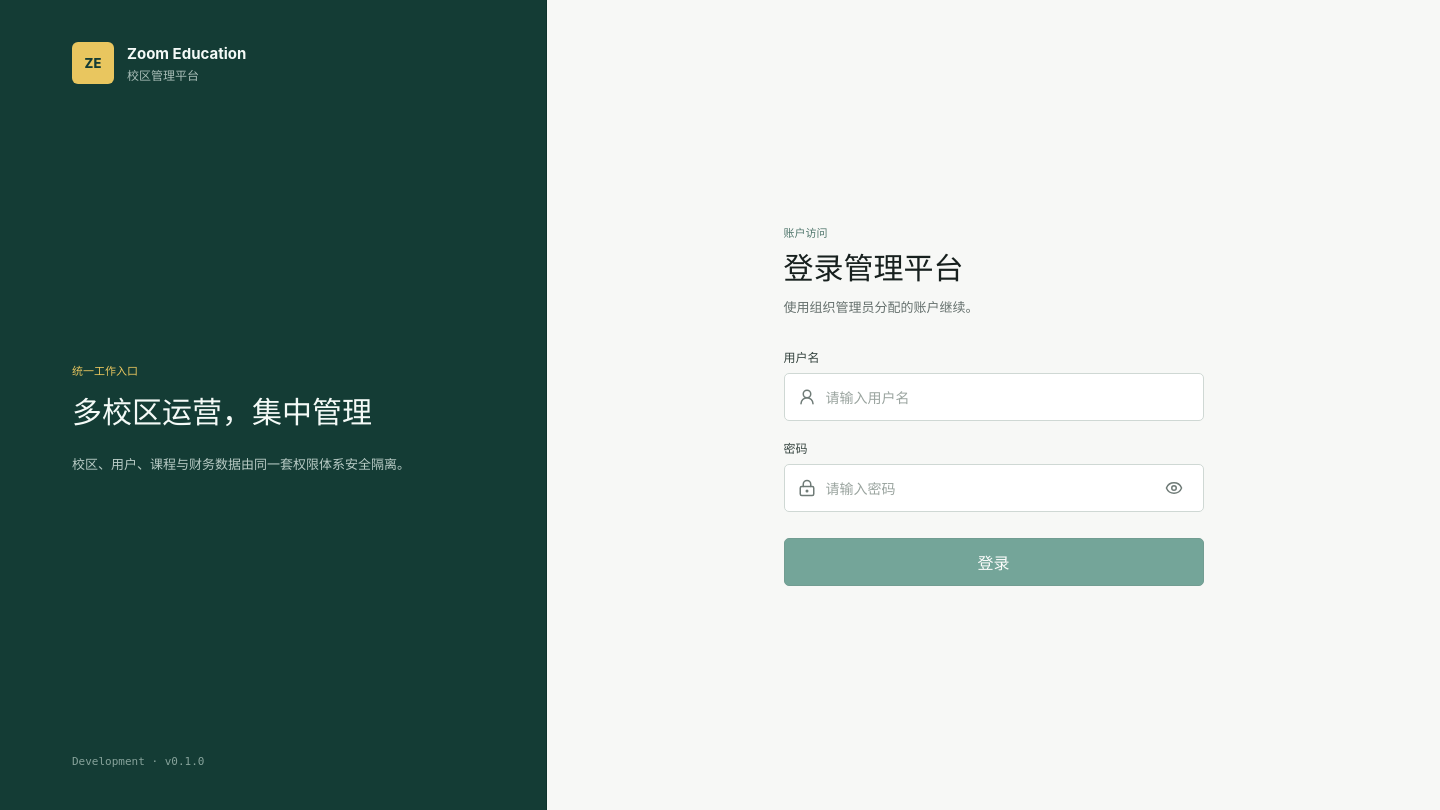
Test case: login view › shows the account-lock message returned by the API
Type "admin" into the field named "username" at [1003, 397], box [826, 374, 1180, 420]
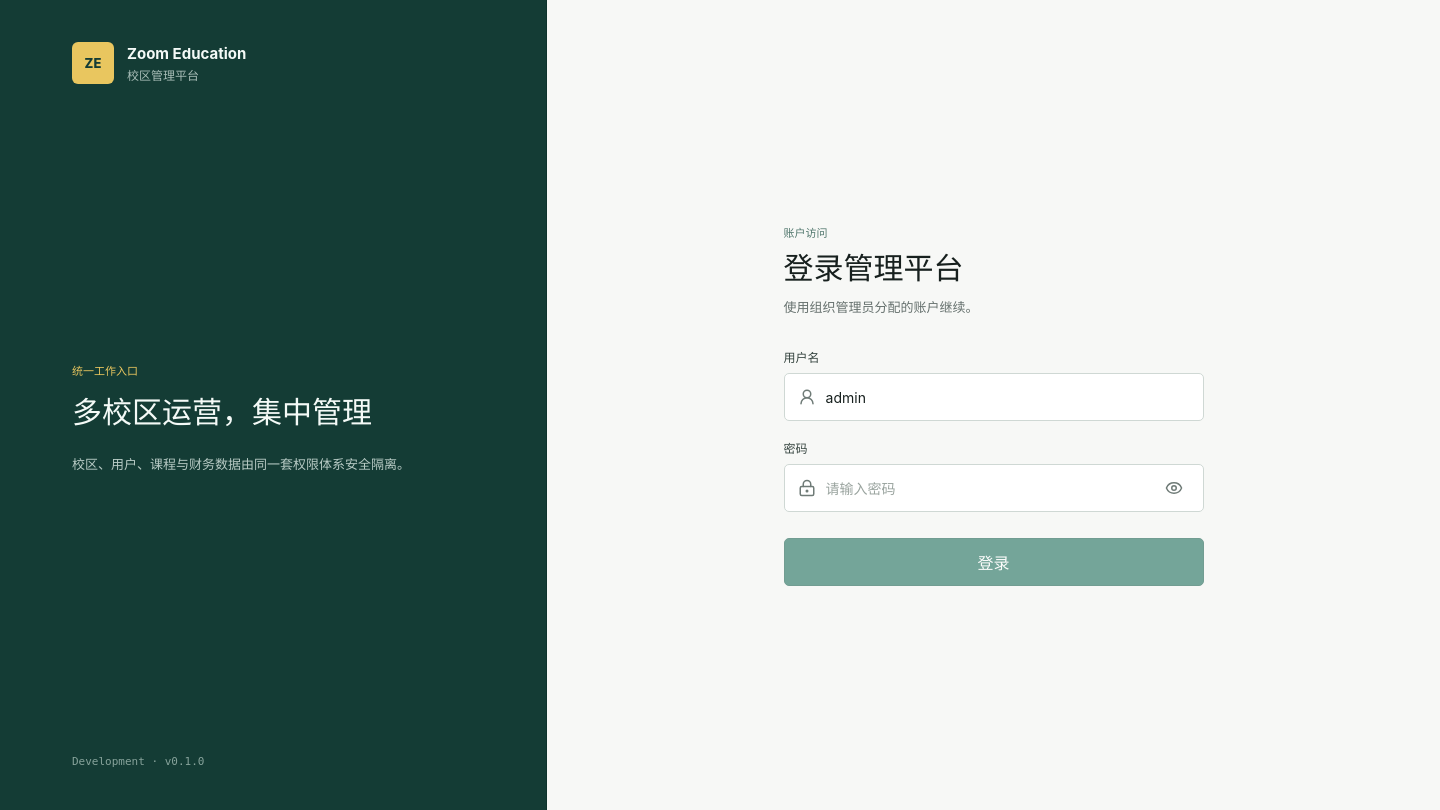
Type "bad-password" into the password field named "password" at [987, 488], box [826, 465, 1148, 511]
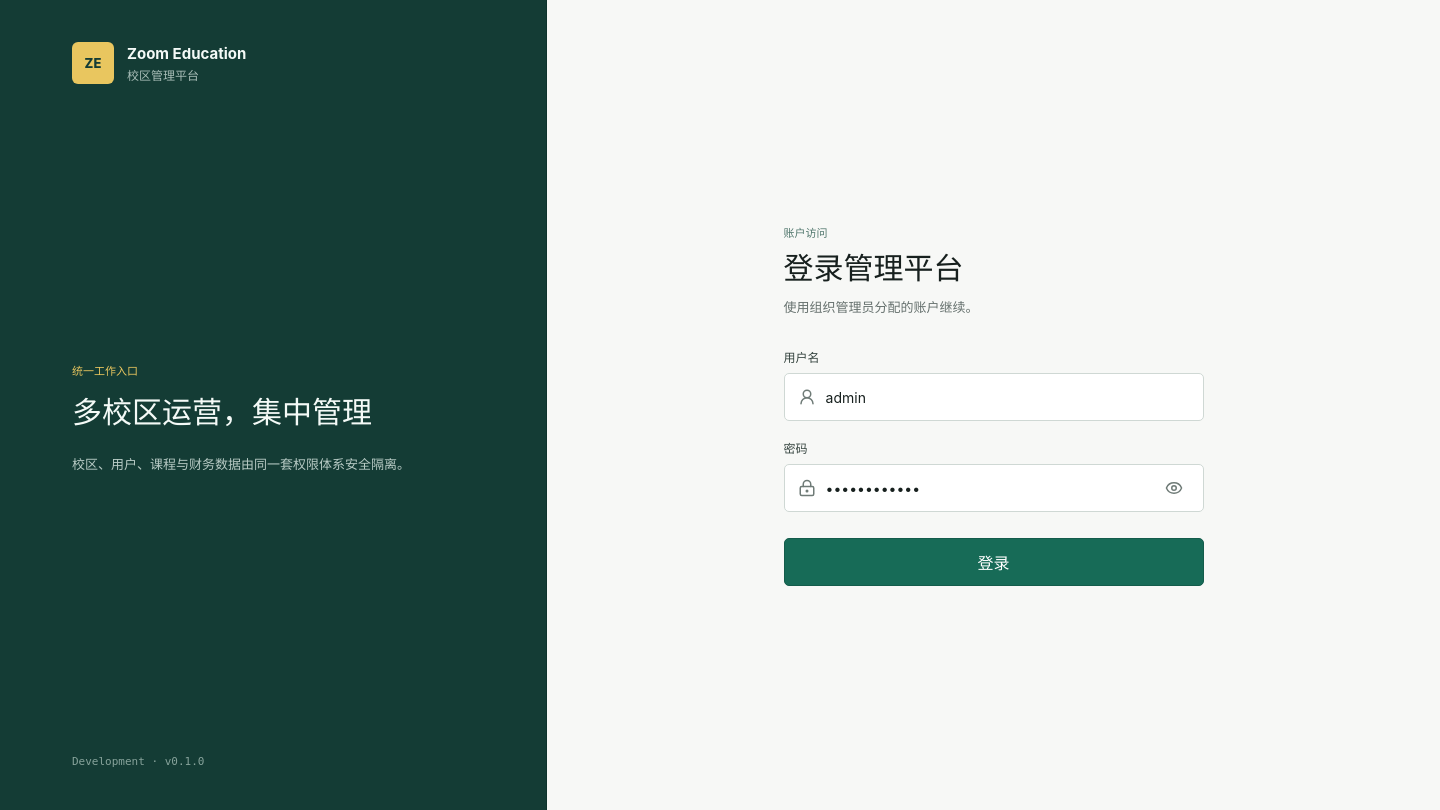
Submit the form, box [784, 224, 1204, 586]
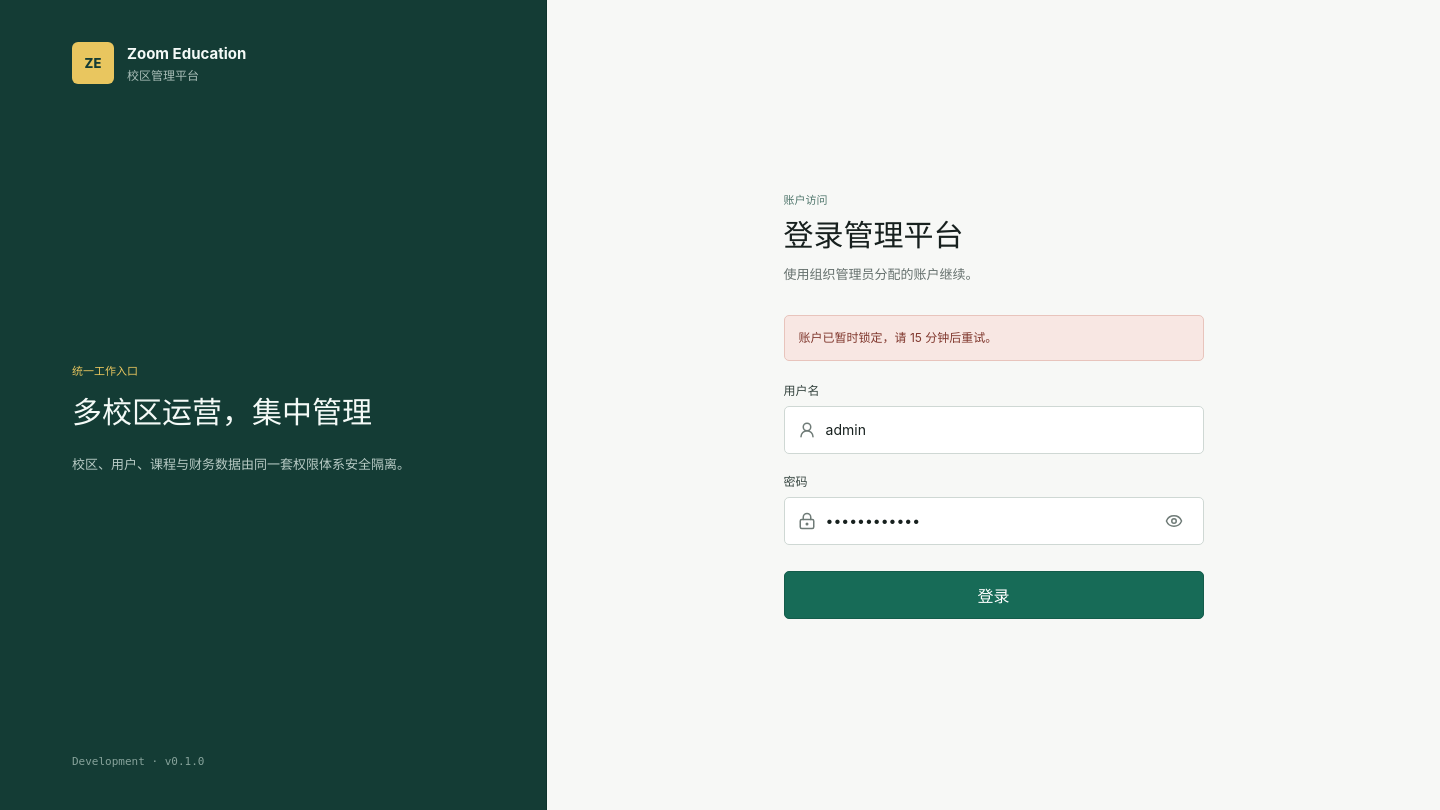
Result: the message "账户已暂时锁定，请 15 分钟后重试。" is shown at [784, 316, 1204, 361]
